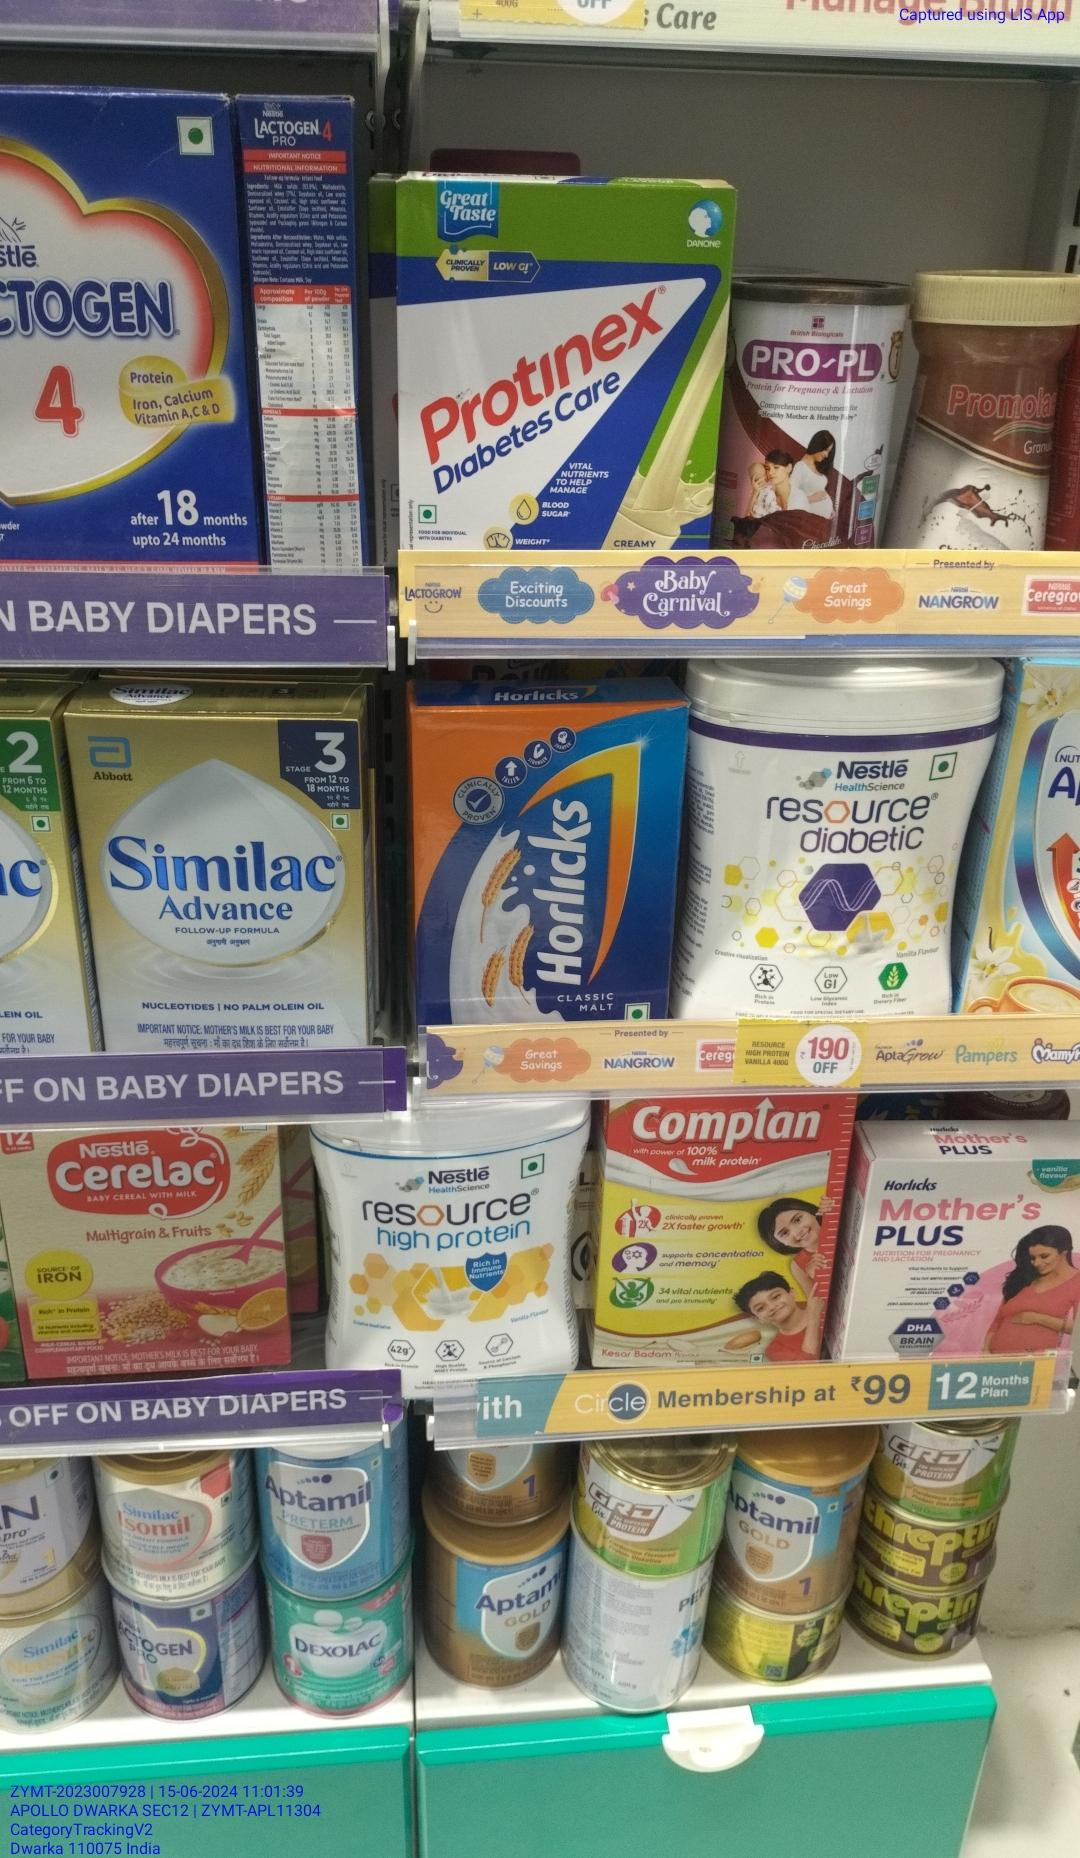COMPLAN_KESAR_BADAM_500_GMS_PACK: (599, 1098, 831, 1369)
HORLICK_CLASSIC_MALT_500_G_PACK: (413, 703, 675, 1021)
